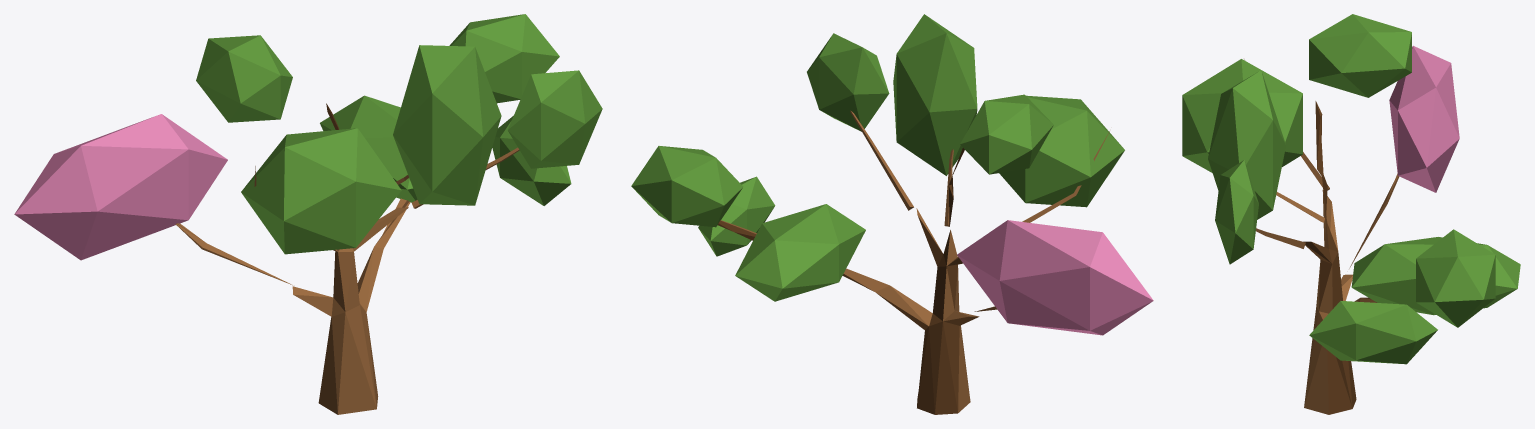
The model's file is magnolia_bloom_far.glb.
3 views of the same model, side by side, from view 1: azimuth 30°, elevation 25°; view 2: azimuth 150°, elevation 25°; view 3: azimuth 270°, elevation 25° (orthographic). The views are drawn at different scales.
Parts seen in each view (by area): view 1: magnolia_bloom_far; view 2: magnolia_bloom_far; view 3: magnolia_bloom_far.
Boxes of the visible parts, bbox=[...] form: magnolia_bloom_far: bbox=[14, 14, 602, 414]; magnolia_bloom_far: bbox=[631, 14, 1153, 414]; magnolia_bloom_far: bbox=[1182, 14, 1520, 414].
Bounding box in the file's own units: 10.29 × 6.71 × 5.93.
